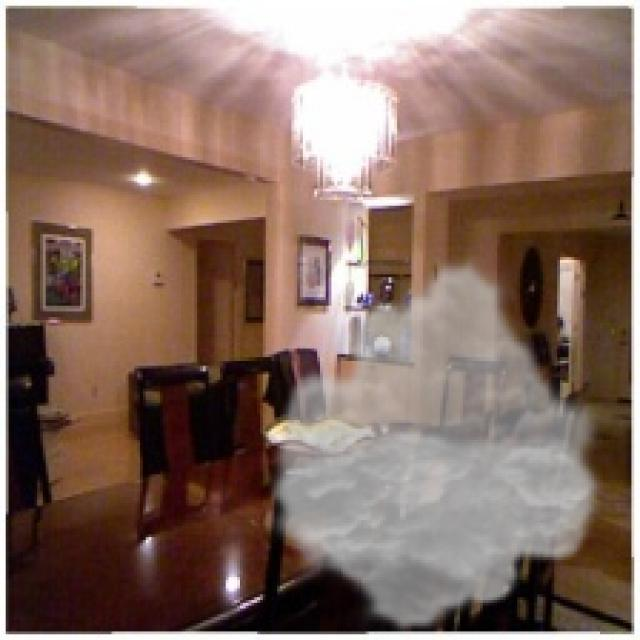smoke: (263, 255, 608, 634)
